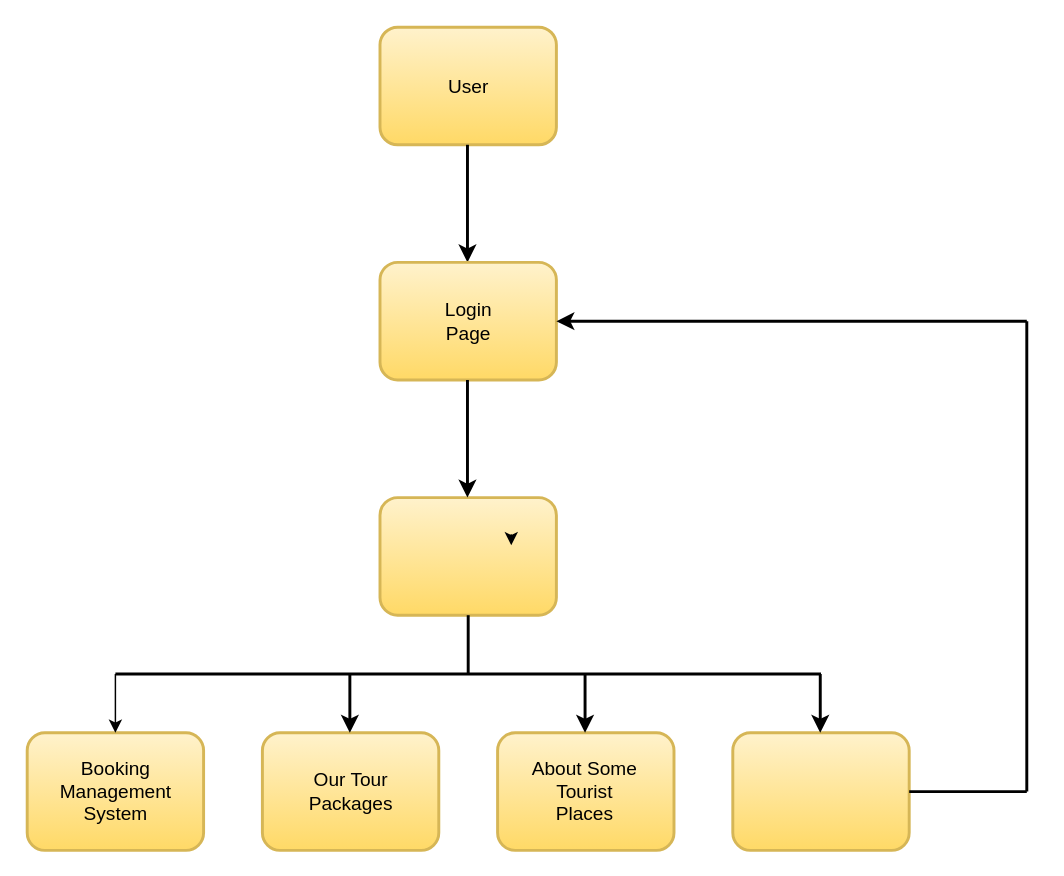
The diagram is 1064 pixels wide and 876 high, and some of its shapes have lost their labels. The box of each missing label's shape, as (x1, y1, x2, y2) in pixels:
Home Page: (378, 495, 557, 616)
Log Out: (731, 731, 910, 851)
